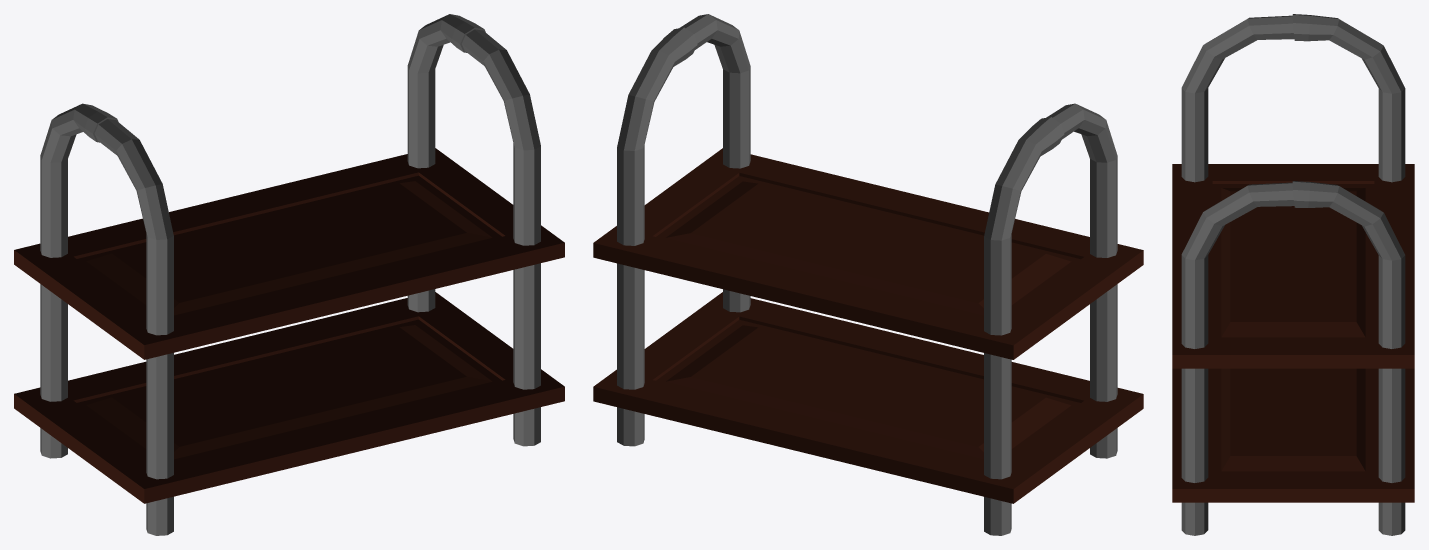
The model's file is Shelf 1.fbx.
3 views of the same model, side by side, from view 1: azimuth 30°, elevation 25°; view 2: azimuth 150°, elevation 25°; view 3: azimuth 270°, elevation 25° (orthographic). The views are drawn at different scales.
Parts seen in each view (by area): view 1: Node 0; view 2: Node 0; view 3: Node 0.
Part boxes in pixels (x1,y1,x2,y2): Node 0: (14,14,564,535); Node 0: (593,14,1143,535); Node 0: (1172,14,1414,535).
Size of the model in its own units: 0.613 by 0.9724 by 1.14.
